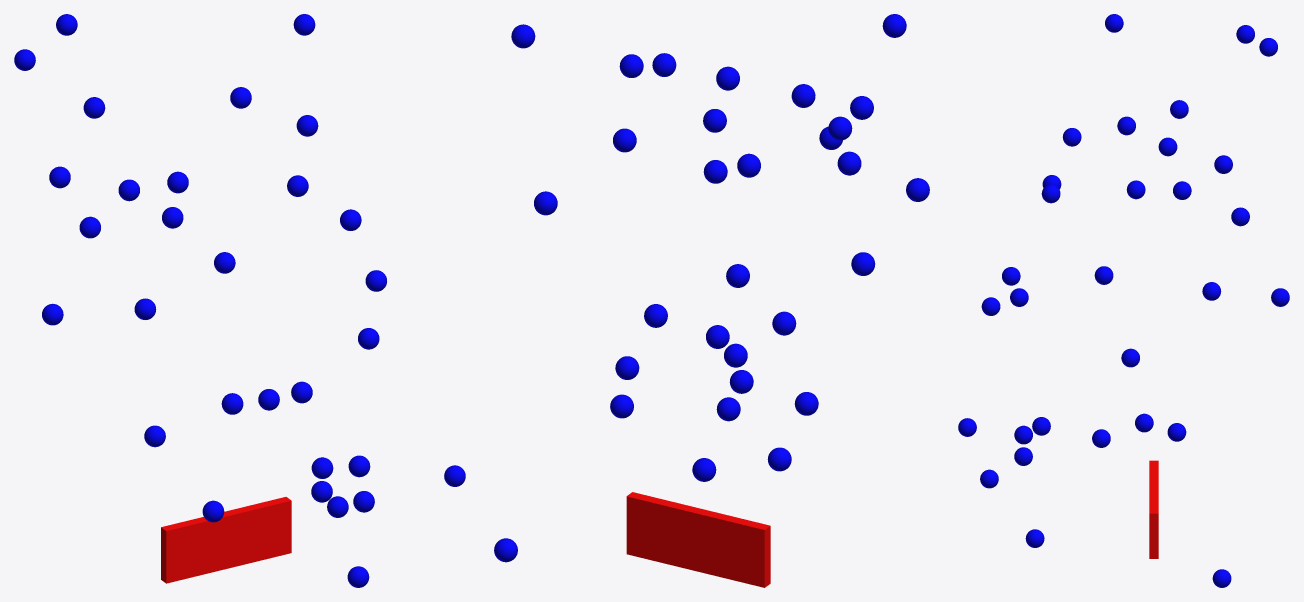
File: asset.glb
3 views of the same model, side by side, from view 1: azimuth 30°, elevation 25°; view 2: azimuth 150°, elevation 25°; view 3: azimuth 270°, elevation 25° (orthographic). The views are drawn at different scales.
Visible parts, largest first — view 1: Mg_Ribbon; view 2: Mg_Ribbon; view 3: Mg_Ribbon.
Part boxes in pixels (box(x1,y1,x2,y2)): Mg_Ribbon: box(161, 497, 291, 583); Mg_Ribbon: box(626, 492, 770, 587); Mg_Ribbon: box(1149, 460, 1158, 558).
Bounding box in the file's own units: 4.93 × 8.01 × 5.3.
